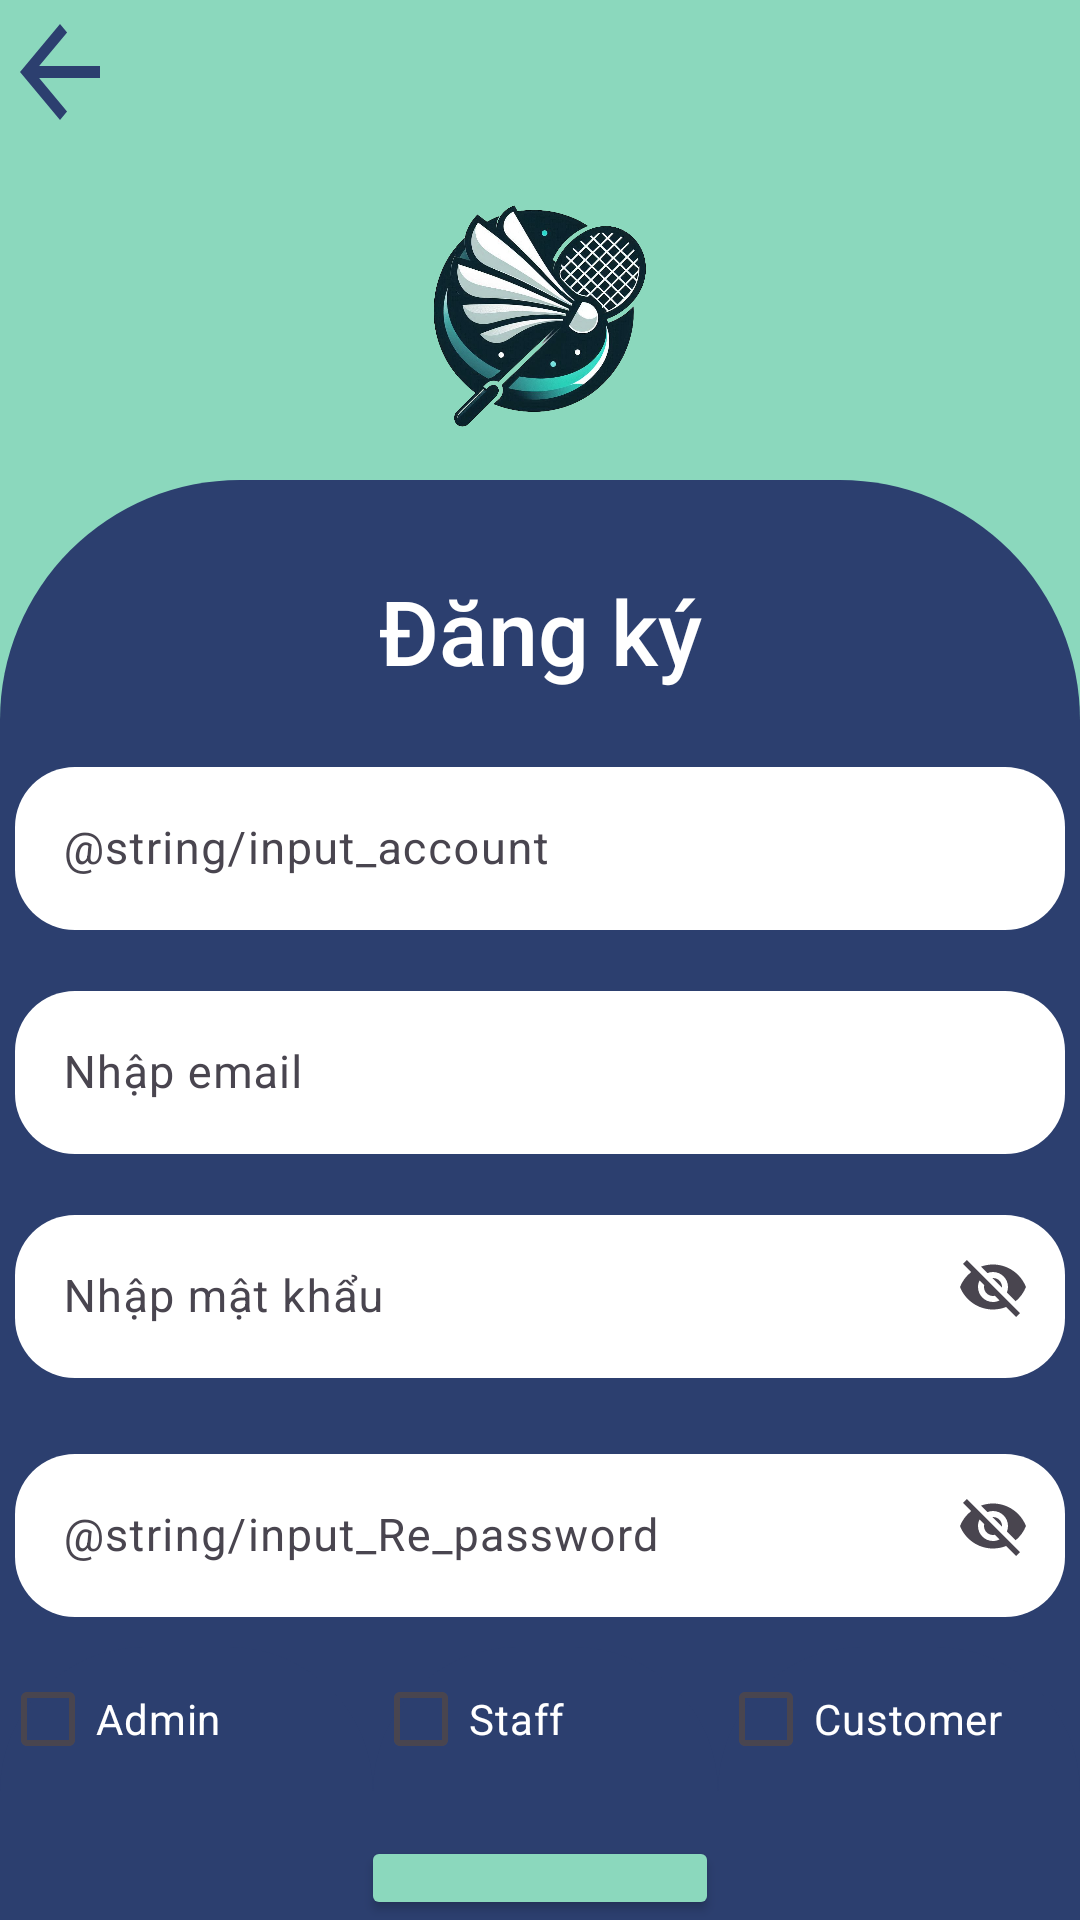

Where icons sit on this 1080w x 1920h app screen, as {"left": x1, "top": y1, "right": x2, "bottom": y2}:
back: {"left": 20, "top": 24, "right": 100, "bottom": 120}
